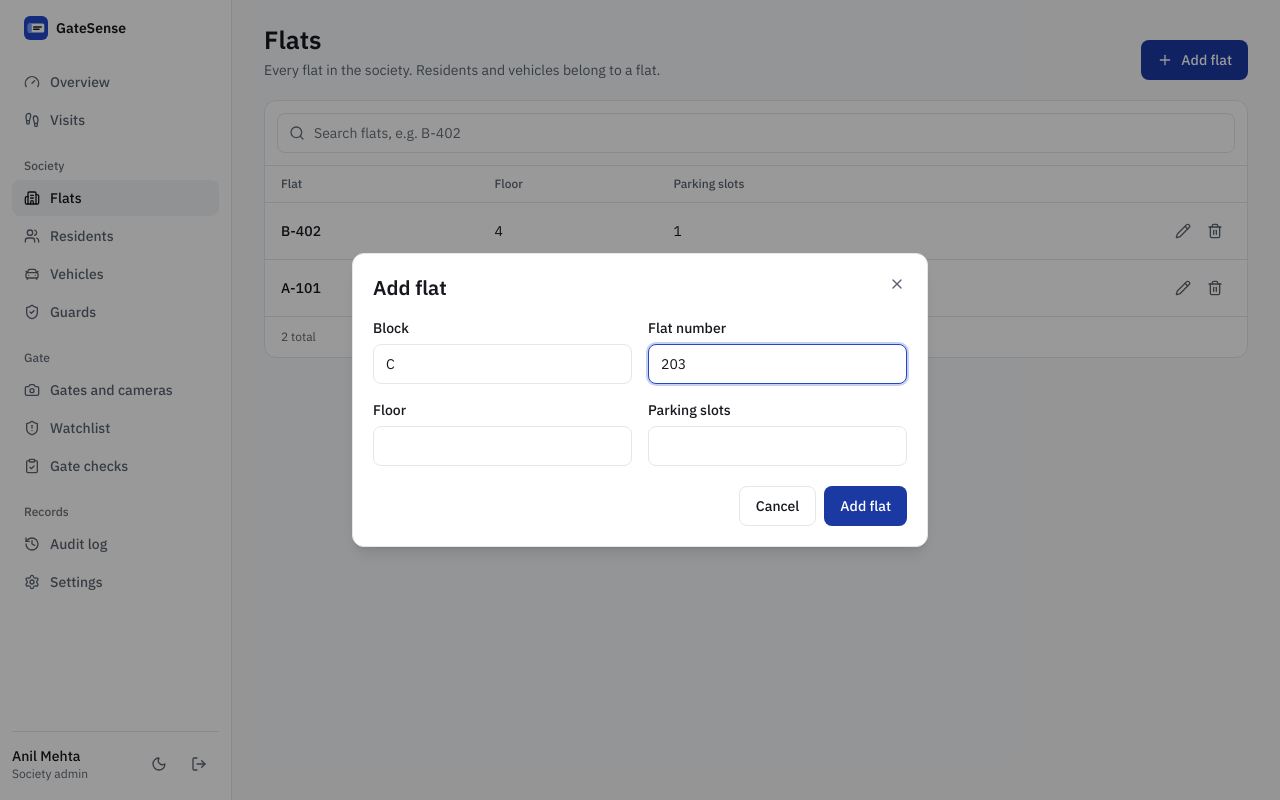
Flats › adds, edits and deletes a flat
The image size is (1280, 800).
Earlier steps of the test are not shown.
Type "2" into the number field labelled "Floor".
click(502, 446); type("2")  # box [373,426,632,466]
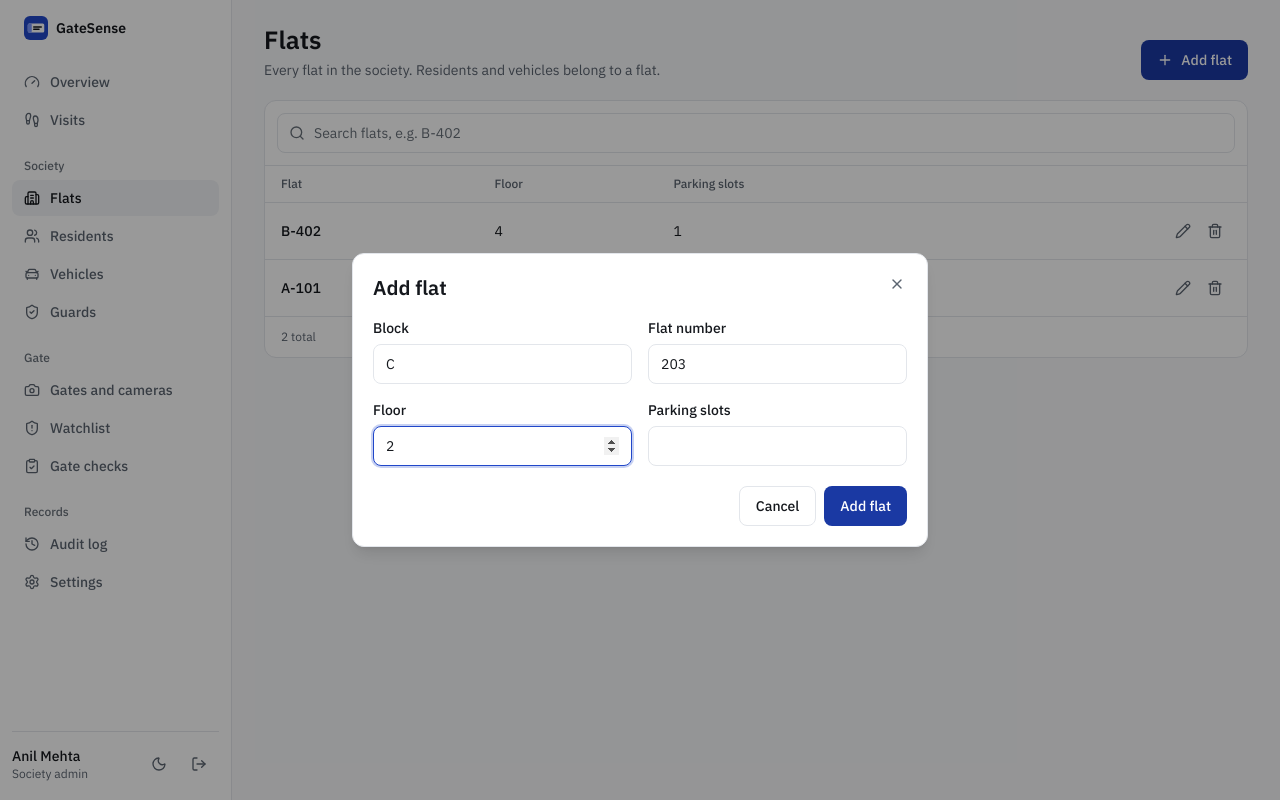
Click the button "Add flat".
click(866, 506)  # box [824,486,907,526]
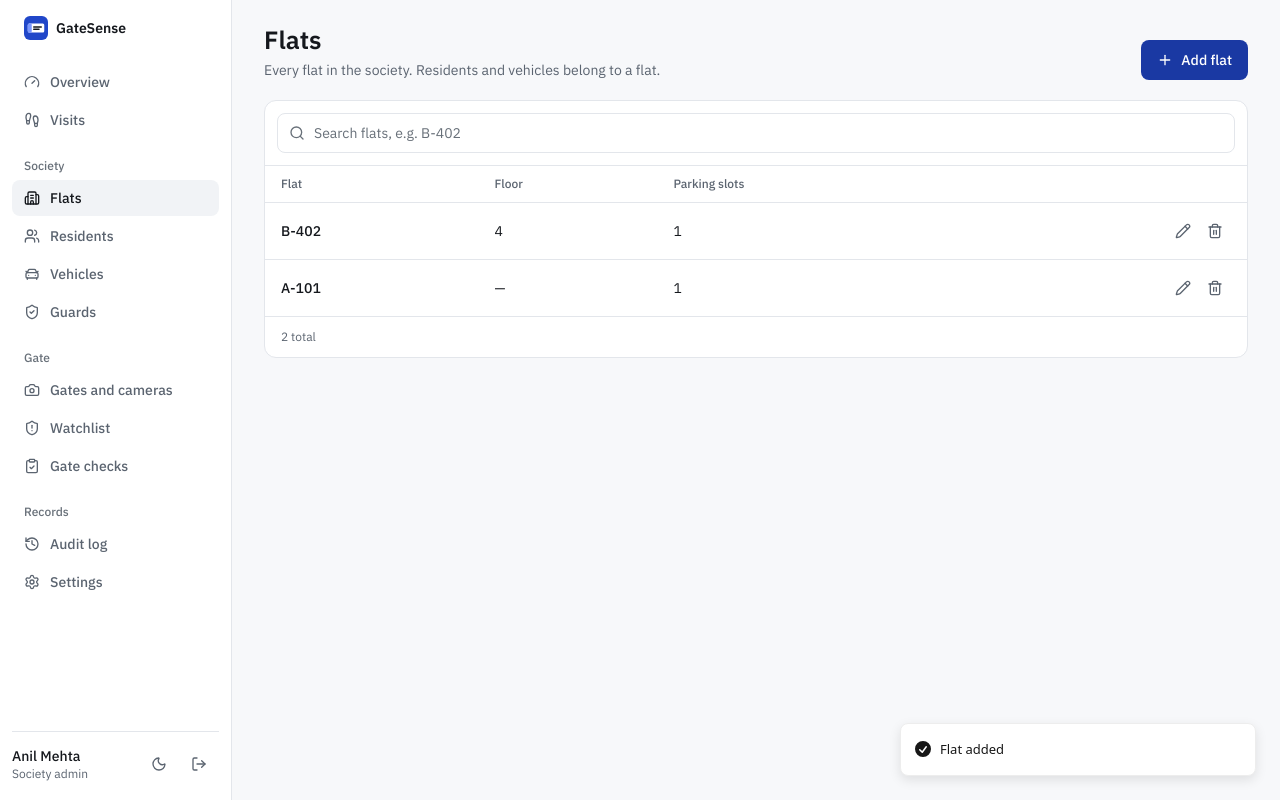
Click the button named "Edit flat" in the row of "B-402".
click(1183, 231)  # box [1167,215,1199,247]
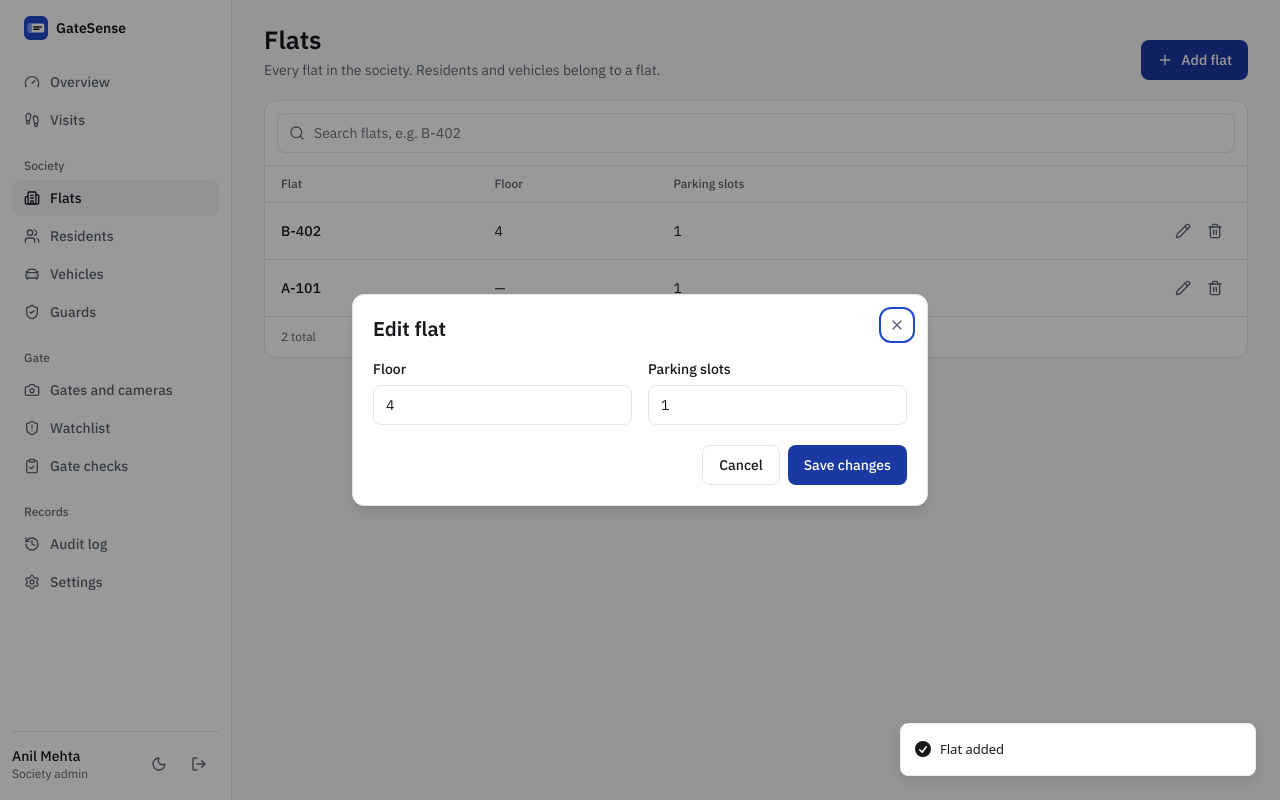
Expected: the number field labelled "Floor" holds "4"
Replace the text in the number field labelled "Floor" with "5" at (502, 405), box [373,385,632,425]
Click the button "Save changes".
click(847, 465)  # box [788,445,907,485]
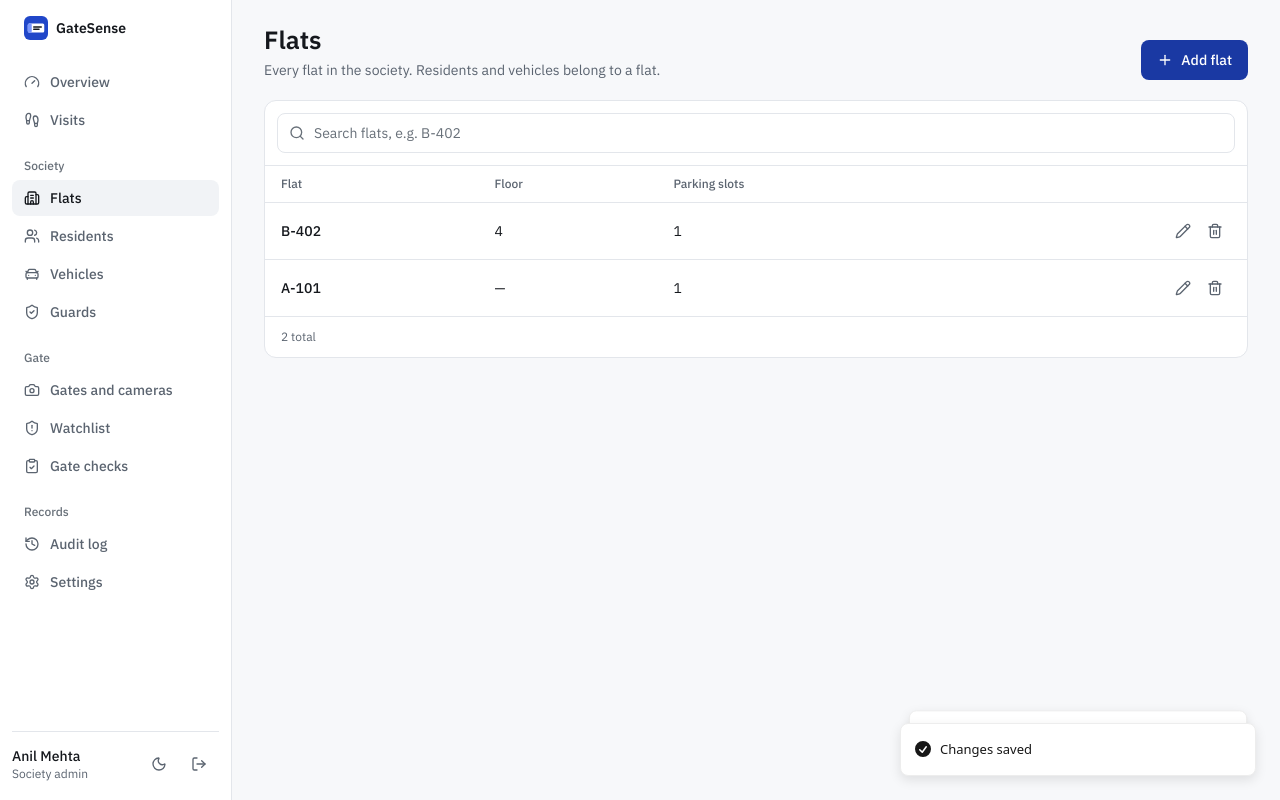
Click the button named "Delete flat" in the row of "A-101".
click(1215, 288)  # box [1199,272,1231,304]
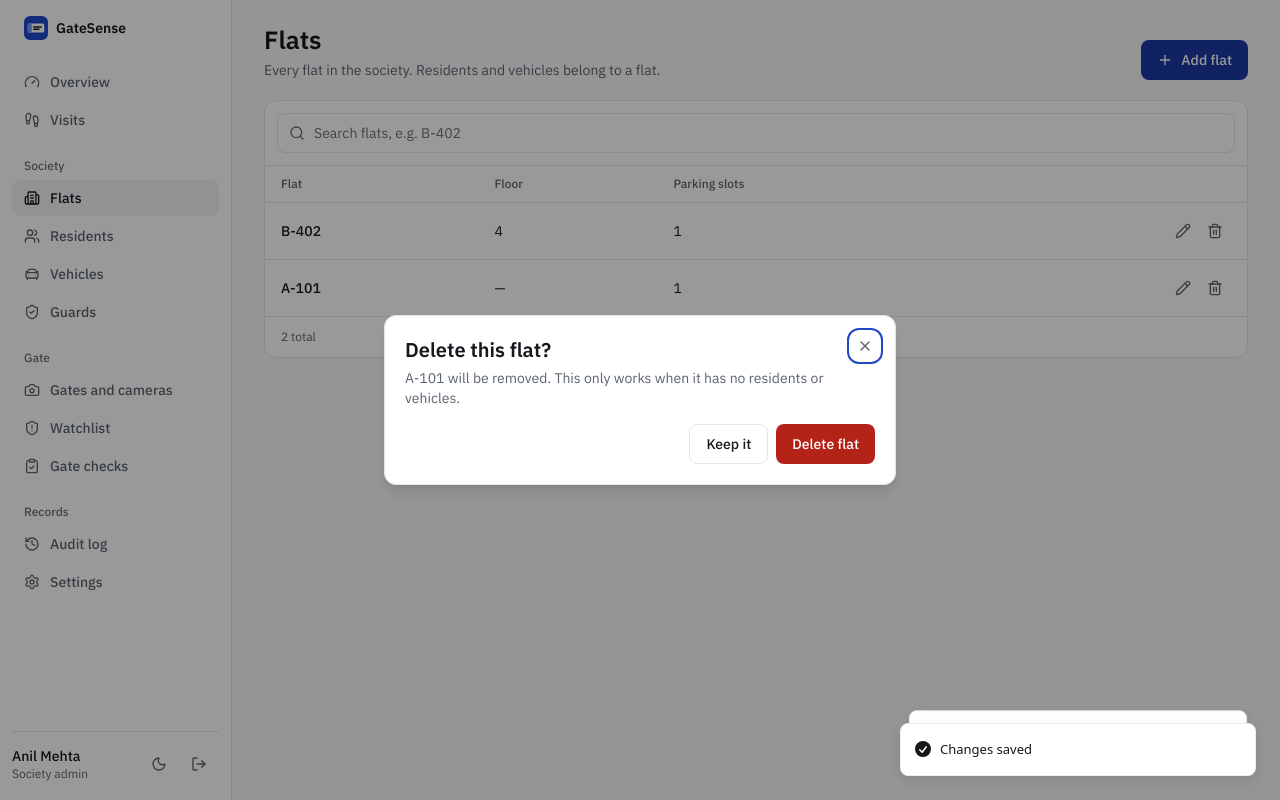
Expected: the text "A-101 will be removed" is shown, [405,369,824,407]
Click the button "Delete flat".
click(826, 444)  # box [776,424,875,464]
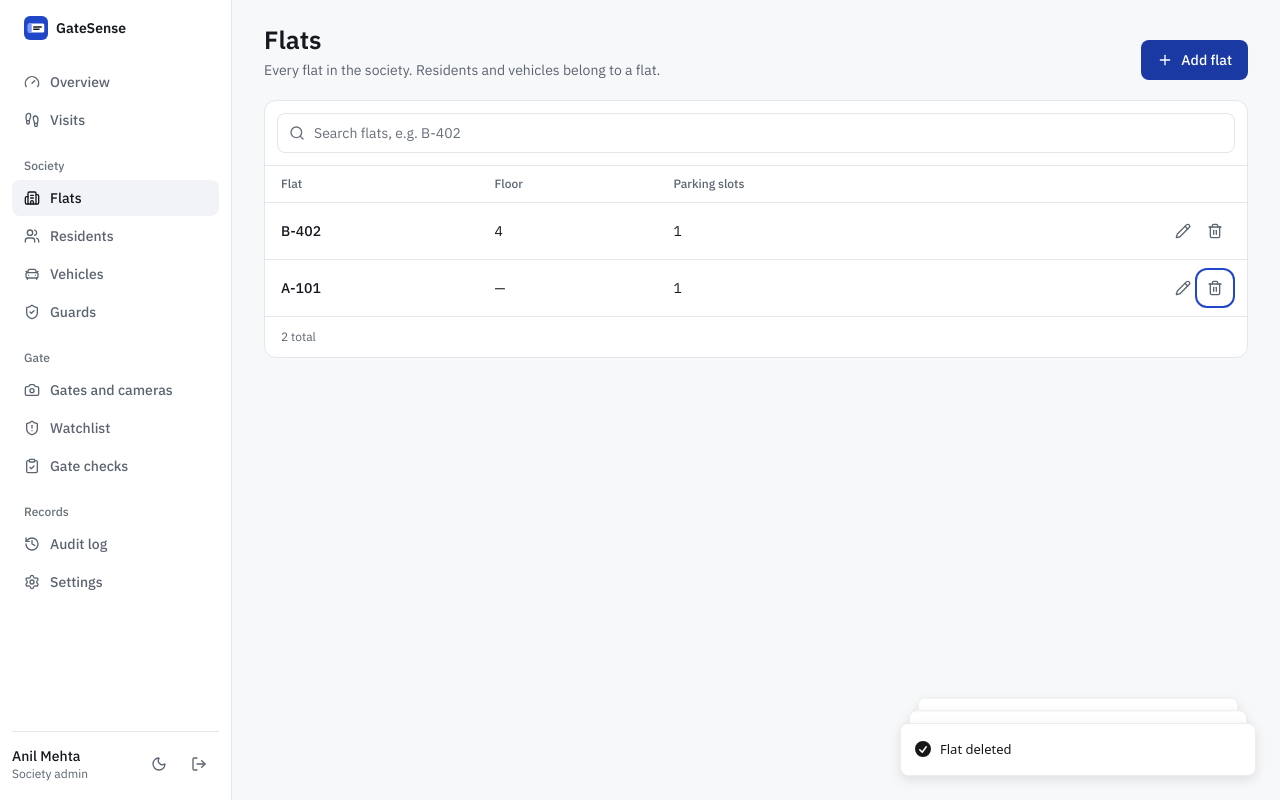
Expected: the text "Flat deleted" is shown, [940,740,1012,759]
